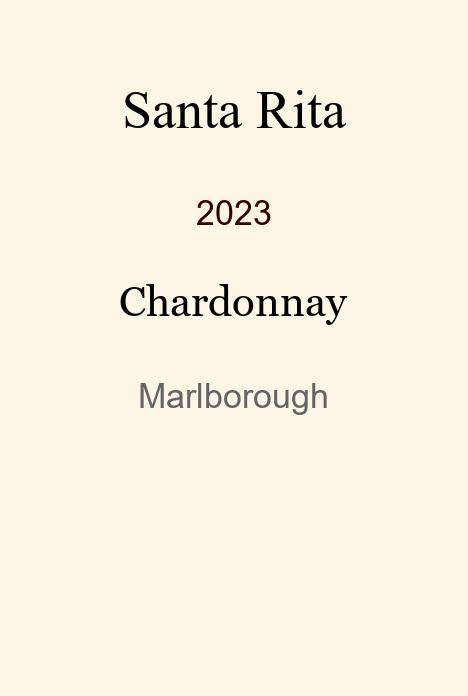brand: (122, 79, 346, 117)
region: (138, 377, 329, 409)
variety: (119, 277, 348, 318)
vintage: (196, 194, 272, 219)
